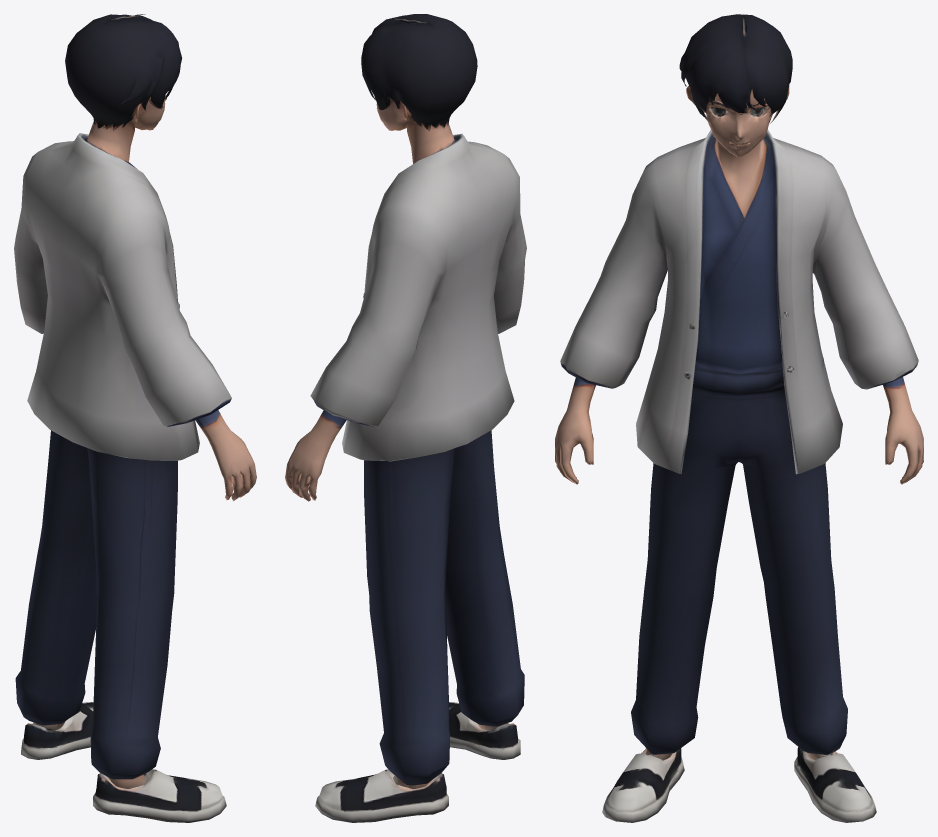
The model's file is nhan-vat-nam-1.glb.
3 views of the same model, side by side, from view 1: azimuth 30°, elevation 25°; view 2: azimuth 150°, elevation 25°; view 3: azimuth 270°, elevation 25° (orthographic). The views are drawn at different scales.
Parts seen in each view (by area): view 1: tripo_node_71b8f8f1-8ea4-4678-9e4a-2d1e45472a96; view 2: tripo_node_71b8f8f1-8ea4-4678-9e4a-2d1e45472a96; view 3: tripo_node_71b8f8f1-8ea4-4678-9e4a-2d1e45472a96.
Boxes of the visible parts, left/top/right/bottom form: tripo_node_71b8f8f1-8ea4-4678-9e4a-2d1e45472a96: left=14, top=14, right=256, bottom=822; tripo_node_71b8f8f1-8ea4-4678-9e4a-2d1e45472a96: left=285, top=14, right=526, bottom=822; tripo_node_71b8f8f1-8ea4-4678-9e4a-2d1e45472a96: left=555, top=14, right=923, bottom=822.
Size of the model in its own units: 0.1738 by 0.998 by 0.4277.
Materials: 1 (1 with a texture image).
